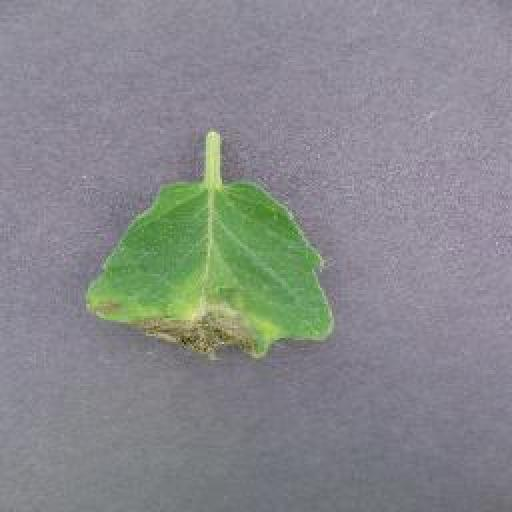disease_tomato: (88, 174, 342, 364)
